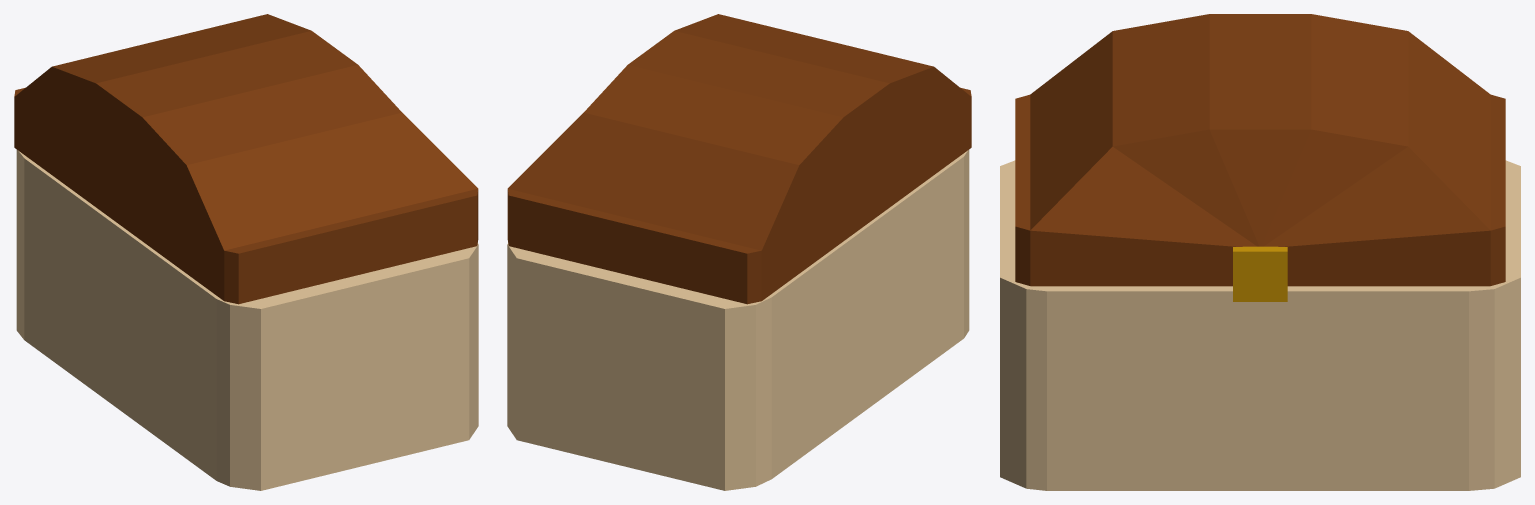
Rendered from chest.fbx.
3 renders of one model, left to right at view 1: azimuth 30°, elevation 25°; view 2: azimuth 150°, elevation 25°; view 3: azimuth 270°, elevation 25°, orthographic. The views are drawn at different scales.
Visible parts, largest first — view 1: Cube, Cube.001; view 2: Cube, Cube.001; view 3: Cube.001, Cube, Cube.002.
Boxes of the visible parts, bbox=[...] form: Cube: bbox=[16, 149, 478, 490]; Cube.001: bbox=[14, 14, 478, 304]; Cube: bbox=[507, 149, 969, 490]; Cube.001: bbox=[507, 14, 971, 304]; Cube.001: bbox=[1015, 14, 1505, 286]; Cube: bbox=[1000, 160, 1520, 490]; Cube.002: bbox=[1233, 246, 1287, 301].
Bounding box in the file's own units: 205 × 230 × 320.
